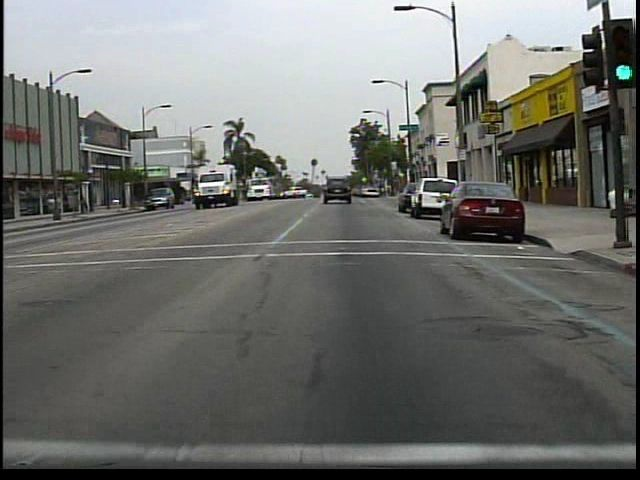person: (602, 181, 623, 218), (80, 191, 91, 216)
